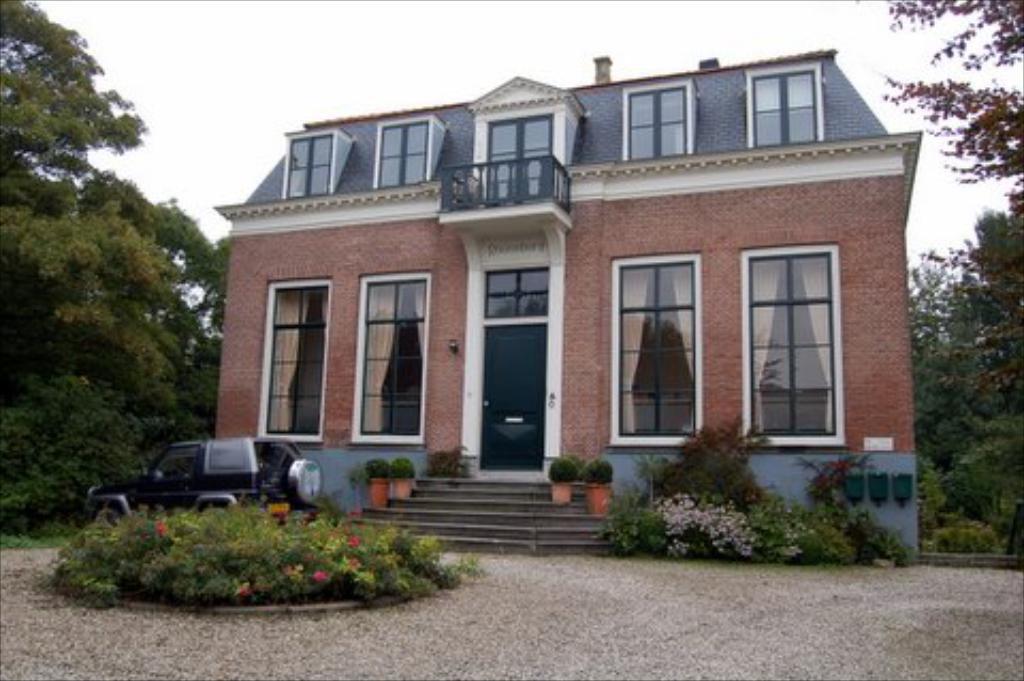Tree: (0, 0, 236, 532), (855, 0, 1024, 542)
